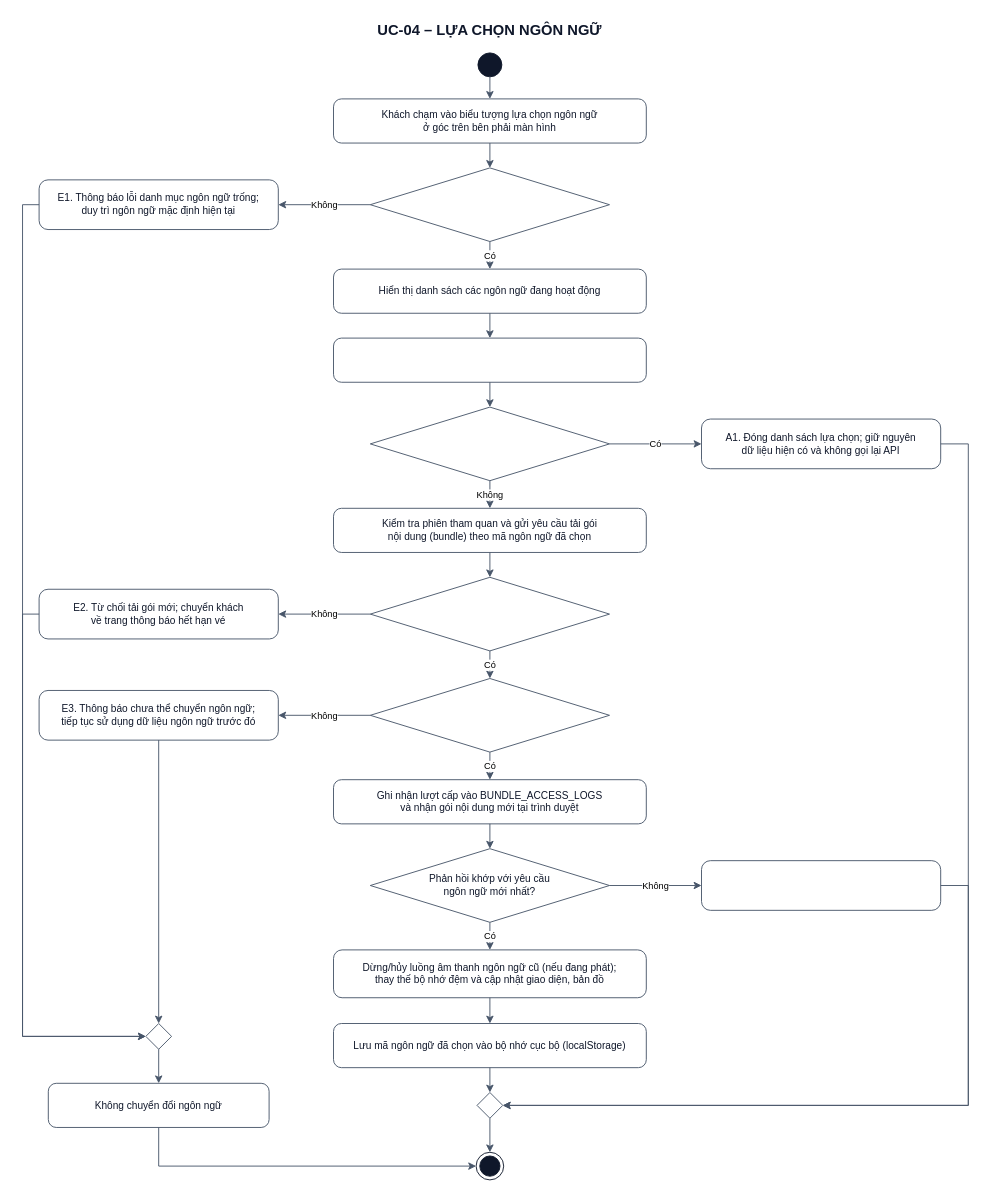
The diagram is 992 pixels wide and 1196 high, and some of its shapes have lost their labels. The centre of each missing label's shape, as x and y in pixels:
"Bỏ qua phản hồi đến muộn của lần chọn trước để không ghi đè lựa chọn mới" goes at point 821,885.
"Khách chọn ngôn ngữ mong muốn trong danh sách" goes at point 489,359.
"Lấy được danh mục ngôn ngữ hỗ trợ?" goes at point 489,204.
"Phiên tham quan còn hiệu lực?" goes at point 489,613.
"Trùng với ngôn ngữ đang sử dụng hiện tại?" goes at point 489,443.
"Tải gói nội dung ngôn ngữ mới thành công?" goes at point 489,715.
